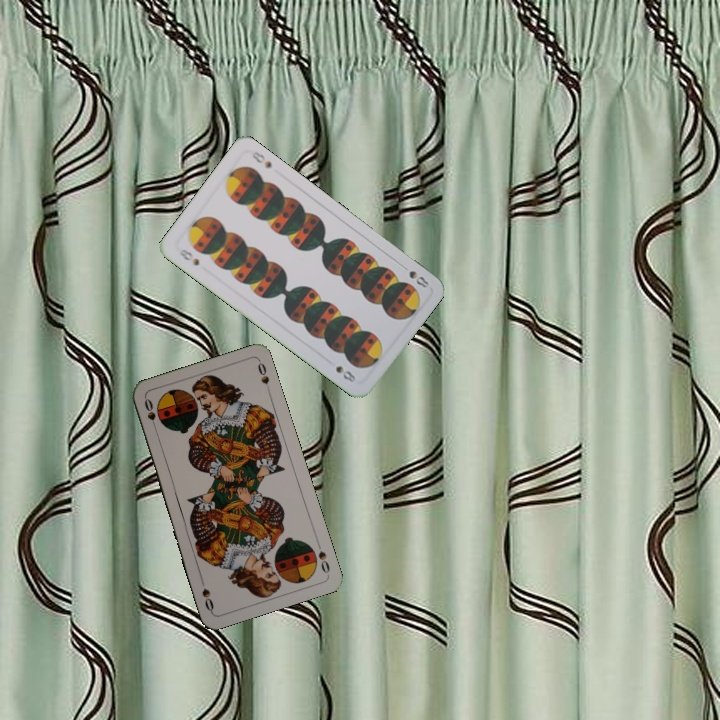S8: (405, 266, 431, 291), (175, 245, 202, 268)
SO: (140, 394, 160, 434), (312, 537, 332, 576)
